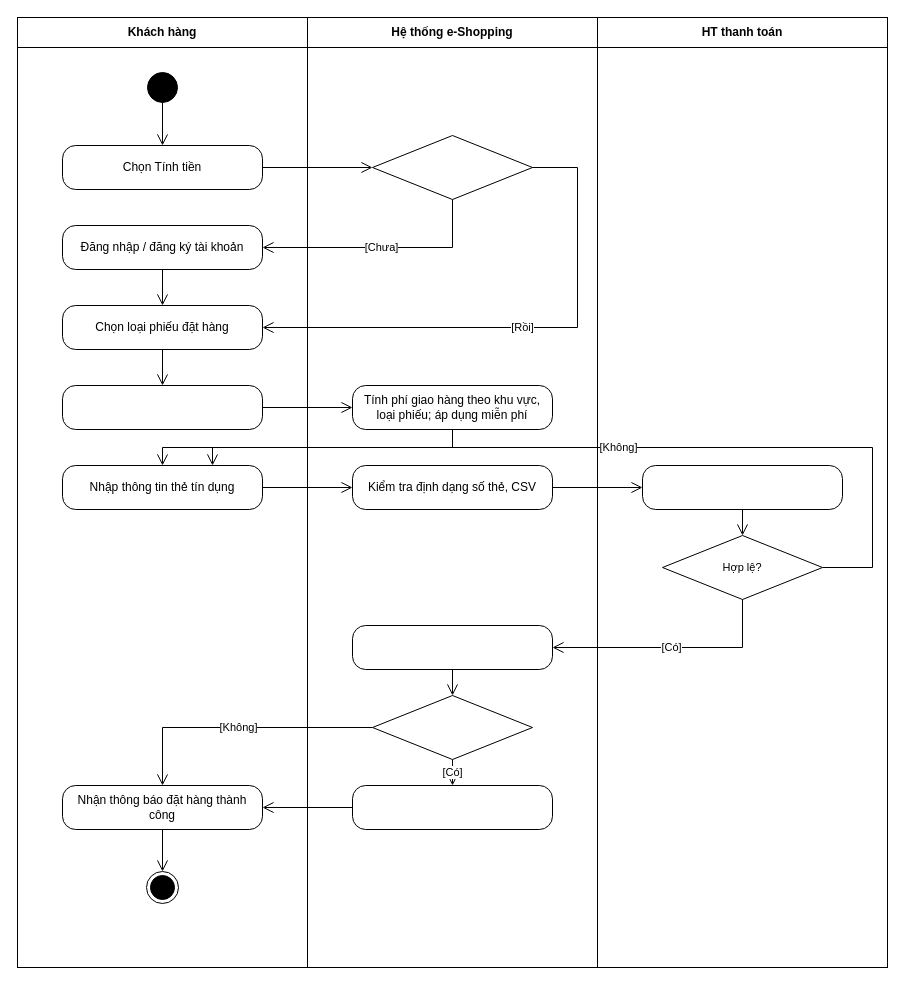
Some shapes in this 905 by 985 pixel diagram are drawn without their labels. Here are the shapes that lost their labels. From the top down, the centre of each, then its label:
[452,167]: Đã đăng nhập?
[162,407]: Nhập thông tin người nhận
[742,487]: Xác thực thẻ, khả năng thanh toán
[452,647]: Ghi nhận đơn đặt hàng
[452,727]: Có email?
[452,807]: Gửi email xác nhận (không gồm thông tin thẻ)
